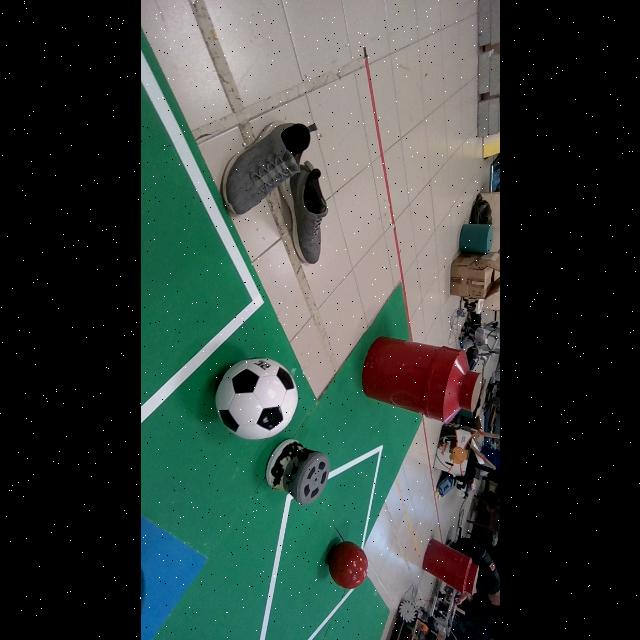R: (328, 541, 367, 589)
